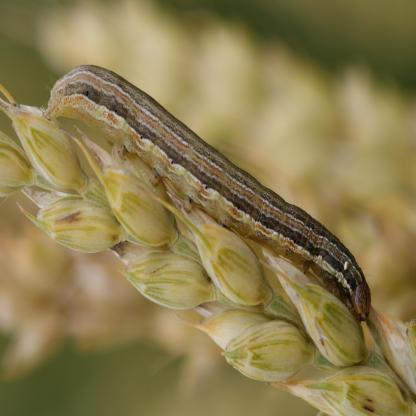armyworm: (35, 33, 387, 346)
